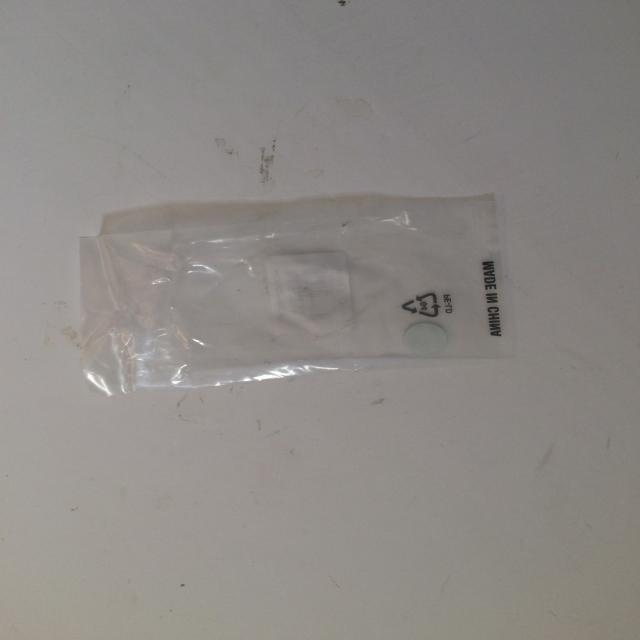plastic: (76, 192, 514, 397)
